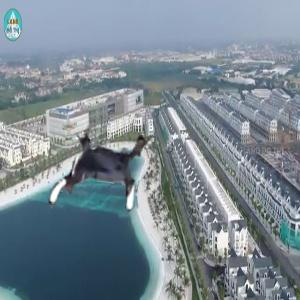drone: (48, 117, 156, 225)
